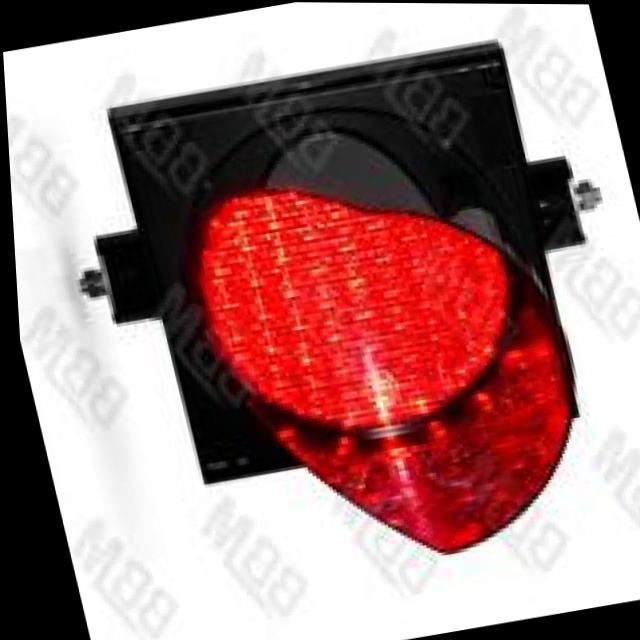red_light: (111, 100, 600, 525)
